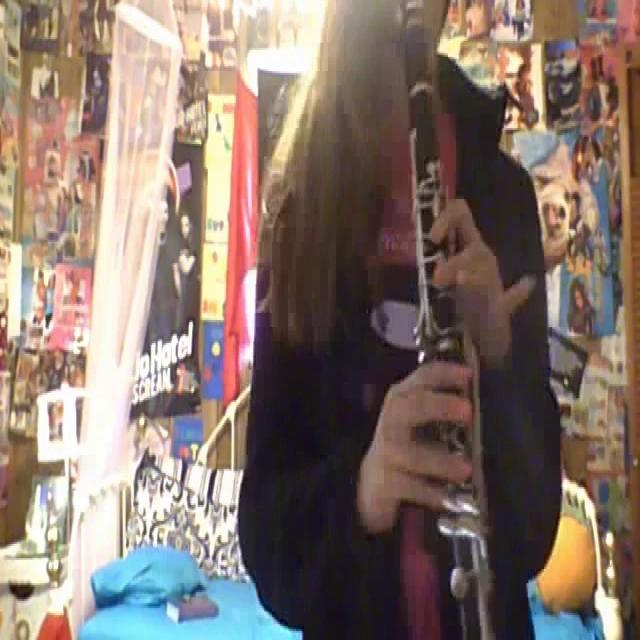Clarinet: (397, 8, 510, 640)
